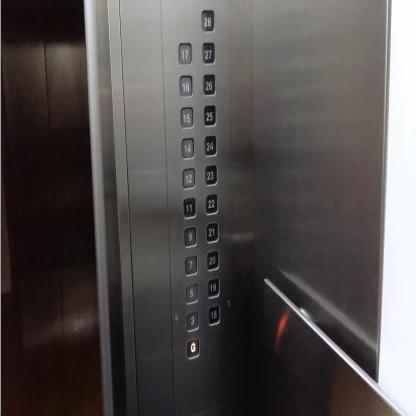11: (181, 194, 196, 219)
12: (181, 166, 196, 190)
14: (180, 137, 195, 160)
15: (179, 106, 194, 130)
16: (178, 74, 194, 98)
17: (178, 41, 192, 66)
18: (207, 302, 220, 327)
19: (207, 276, 220, 300)
20: (206, 248, 219, 272)
21: (205, 220, 219, 245)
22: (204, 192, 218, 215)
23: (204, 163, 218, 186)
24: (203, 133, 217, 158)
25: (203, 103, 217, 127)
26: (202, 71, 216, 97)
27: (201, 40, 215, 65)
28: (200, 7, 215, 33)
3: (186, 308, 199, 332)
5: (185, 281, 198, 305)
7: (184, 254, 198, 276)
9: (184, 224, 197, 248)
G: (186, 335, 200, 359)
